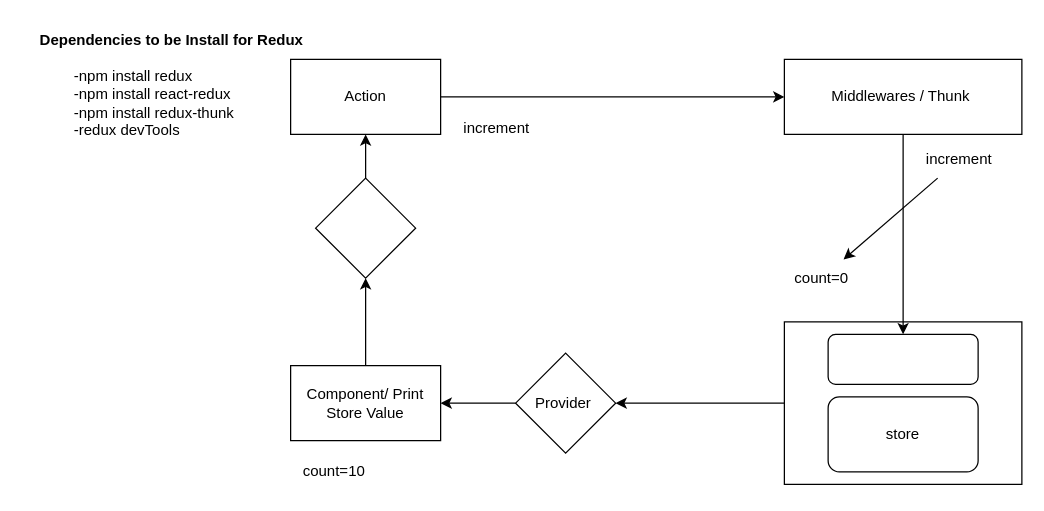
This 1044x511 diagram has some shape labels left out. The centre of each missing label's shape, as x and y in pixels:
Event: the point at 365,227
Reducer: the point at 902,358
